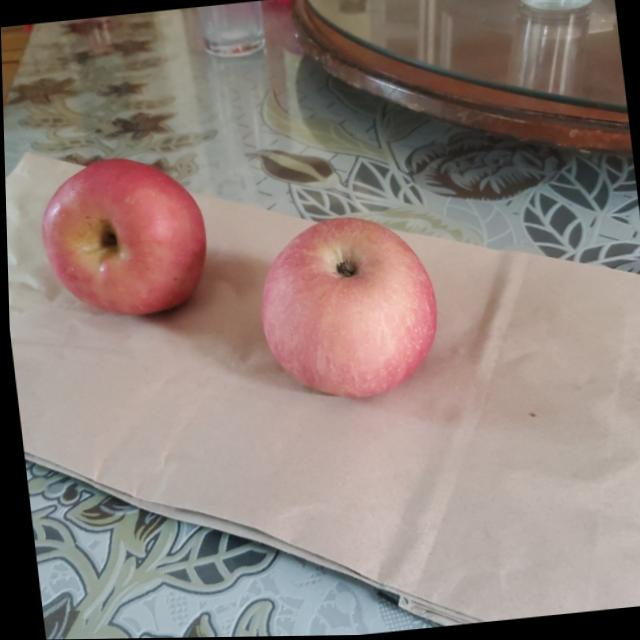apple: (255, 212, 450, 409), (35, 152, 214, 323)
